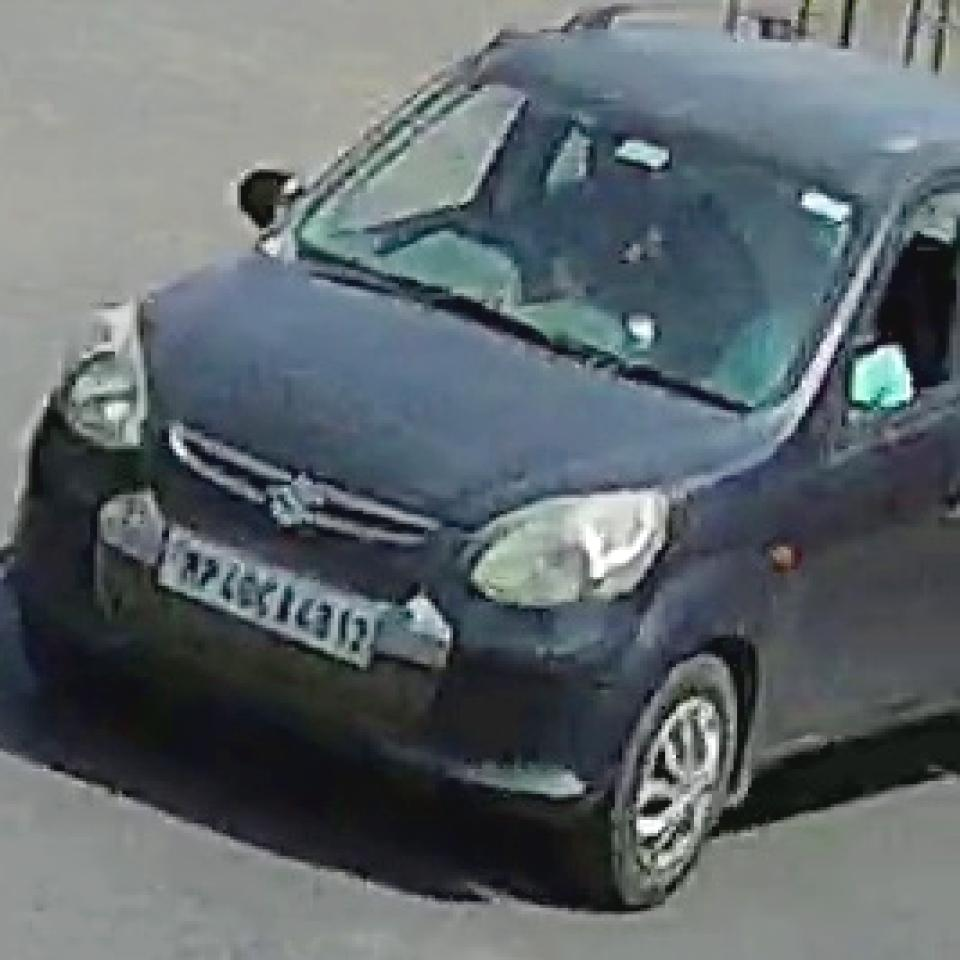head_light: (468, 478, 677, 610), (56, 302, 154, 450)
